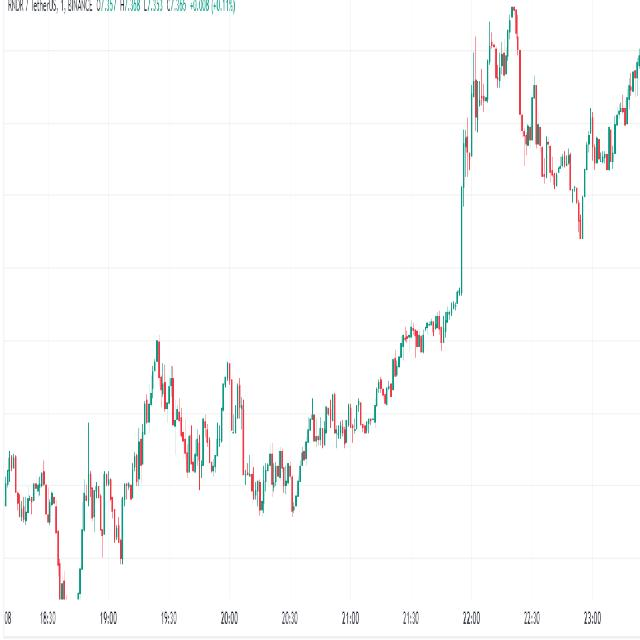Head-Shoulders: (79, 306, 249, 578)
